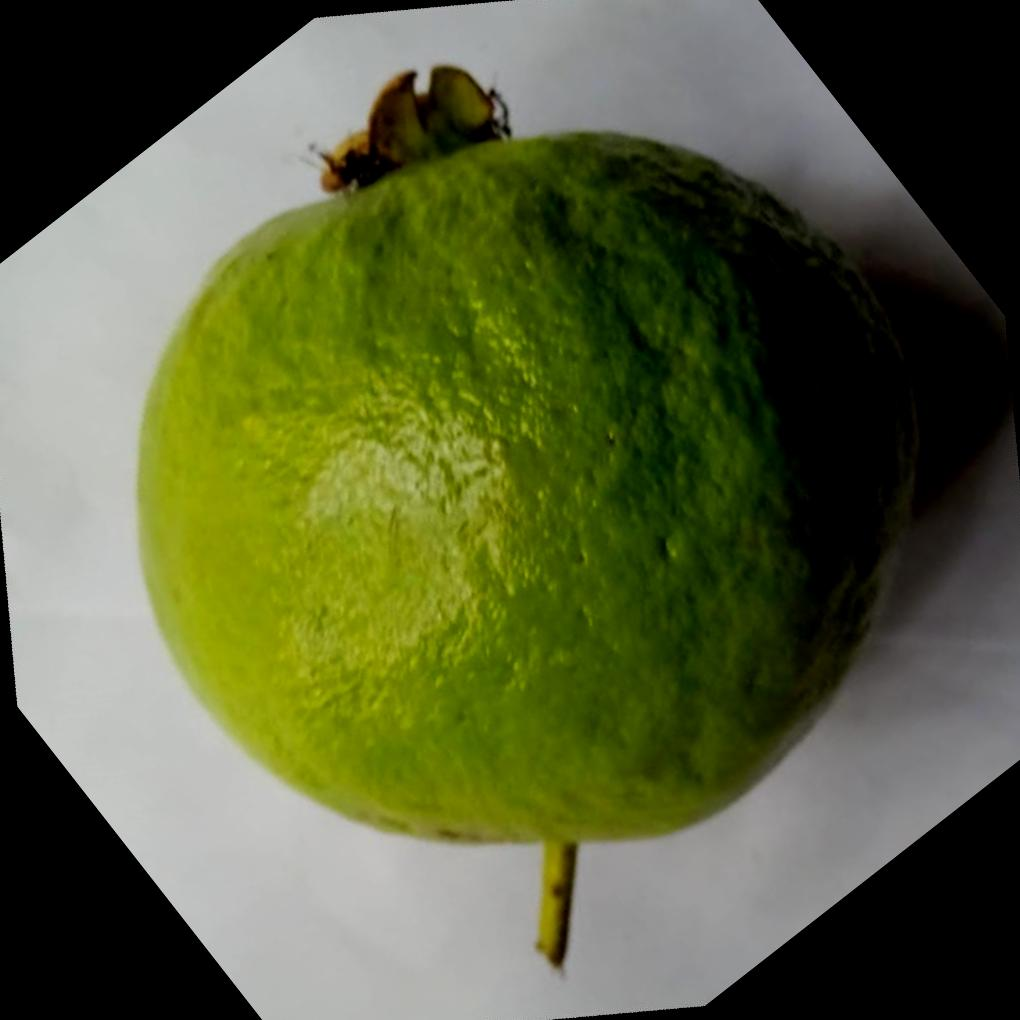FreshGuava: (131, 61, 921, 849)
